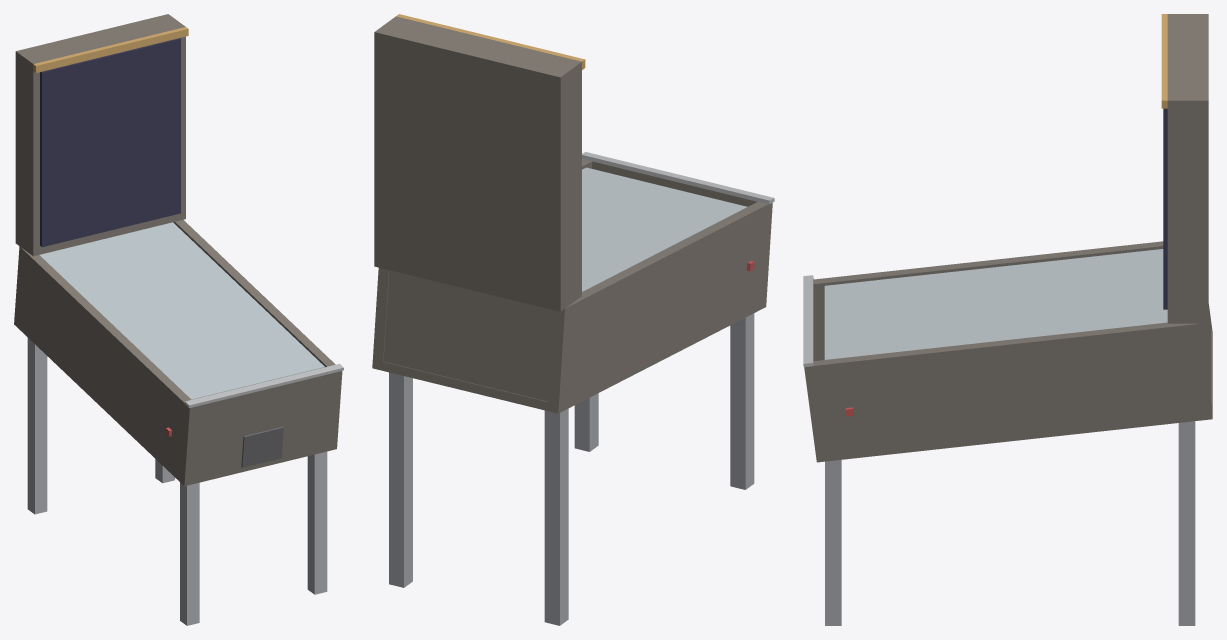
The model's file is Pinball_Cabinet.glb.
The picture shows the model from 3 angles, left to right: view 1: azimuth 30°, elevation 25°; view 2: azimuth 150°, elevation 25°; view 3: azimuth 270°, elevation 25°; orthographic projection. The views are drawn at different scales.
Visible parts, largest first — view 1: Backglass, Glass, SideWall_L, FrontWall, Backbox, Leg_BL, Leg_FR, Leg_FL, SideWall_R, LightStrip, LockdownBar, CoinDoor (+1 smaller); view 2: Backbox, SideWall_L, BackWall, Glass, Leg_BL, Leg_BR, Leg_FL, Body, FrontWall, LockdownBar, Leg_FR, SideWall_R (+1 smaller); view 3: SideWall_R, Glass, Backbox, Leg_BR, Body, SideWall_L, Leg_FR, Backglass, LockdownBar, FrontWall, LightStrip.
Boxes of the visible parts, x1=… form: Backglass: x1=40, y1=38, x2=180, y2=247; Glass: x1=40, y1=222, x2=324, y2=399; SideWall_L: x1=14, y1=246, x2=198, y2=486; FrontWall: x1=181, y1=371, x2=341, y2=485; Backbox: x1=15, y1=14, x2=185, y2=256; Leg_BL: x1=27, y1=338, x2=47, y2=514; Leg_FR: x1=307, y1=451, x2=327, y2=594; Leg_FL: x1=180, y1=482, x2=199, y2=625; SideWall_R: x1=173, y1=219, x2=342, y2=450; LightStrip: x1=33, y1=27, x2=188, y2=72; LockdownBar: x1=184, y1=363, x2=343, y2=407; CoinDoor: x1=241, y1=426, x2=283, y2=467; Backbox: x1=374, y1=16, x2=581, y2=311; SideWall_L: x1=548, y1=201, x2=772, y2=413; BackWall: x1=383, y1=270, x2=568, y2=407; Glass: x1=582, y1=167, x2=747, y2=291; Leg_BL: x1=544, y1=408, x2=568, y2=625; Leg_BR: x1=389, y1=372, x2=412, y2=587; Leg_FL: x1=730, y1=313, x2=754, y2=489; Body: x1=382, y1=298, x2=766, y2=413; FrontWall: x1=592, y1=161, x2=772, y2=308; LockdownBar: x1=582, y1=152, x2=774, y2=204; Leg_FR: x1=574, y1=393, x2=598, y2=451; SideWall_R: x1=372, y1=158, x2=592, y2=370; SideWall_R: x1=804, y1=322, x2=1212, y2=462; Glass: x1=824, y1=249, x2=1167, y2=359; Backbox: x1=1167, y1=14, x2=1208, y2=323; Leg_BR: x1=1178, y1=421, x2=1195, y2=625; Body: x1=816, y1=329, x2=1212, y2=462; SideWall_L: x1=813, y1=241, x2=1212, y2=359; Leg_FR: x1=825, y1=460, x2=841, y2=625; Backglass: x1=1163, y1=108, x2=1167, y2=309; LockdownBar: x1=803, y1=275, x2=813, y2=367; FrontWall: x1=805, y1=289, x2=825, y2=461; LightStrip: x1=1161, y1=14, x2=1167, y2=108.
Bounding box in the file's own units: 0.784 × 2.16 × 1.51.
